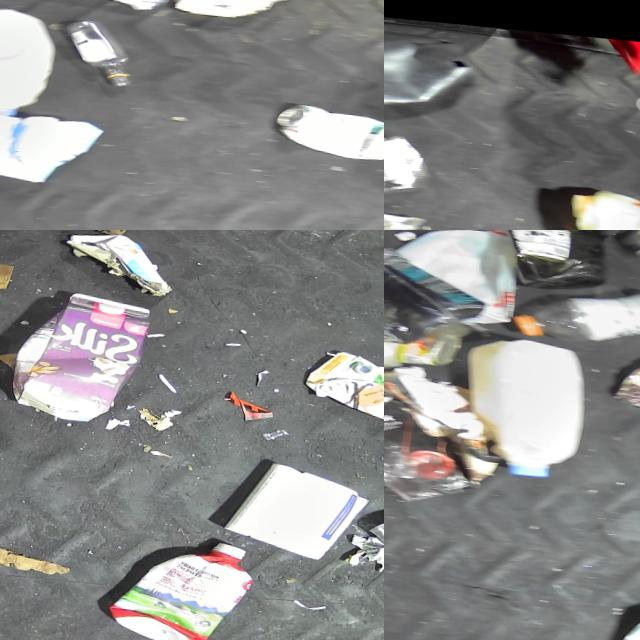can: (273, 93, 384, 151), (384, 122, 430, 194), (395, 327, 463, 364)
milk_jug: (467, 330, 586, 475), (396, 230, 519, 320), (0, 1, 57, 116)
non_white_jug: (8, 283, 151, 420), (108, 525, 253, 640), (302, 338, 384, 415), (570, 175, 640, 230)
plastic_bottle: (513, 273, 640, 344), (64, 14, 133, 83)
